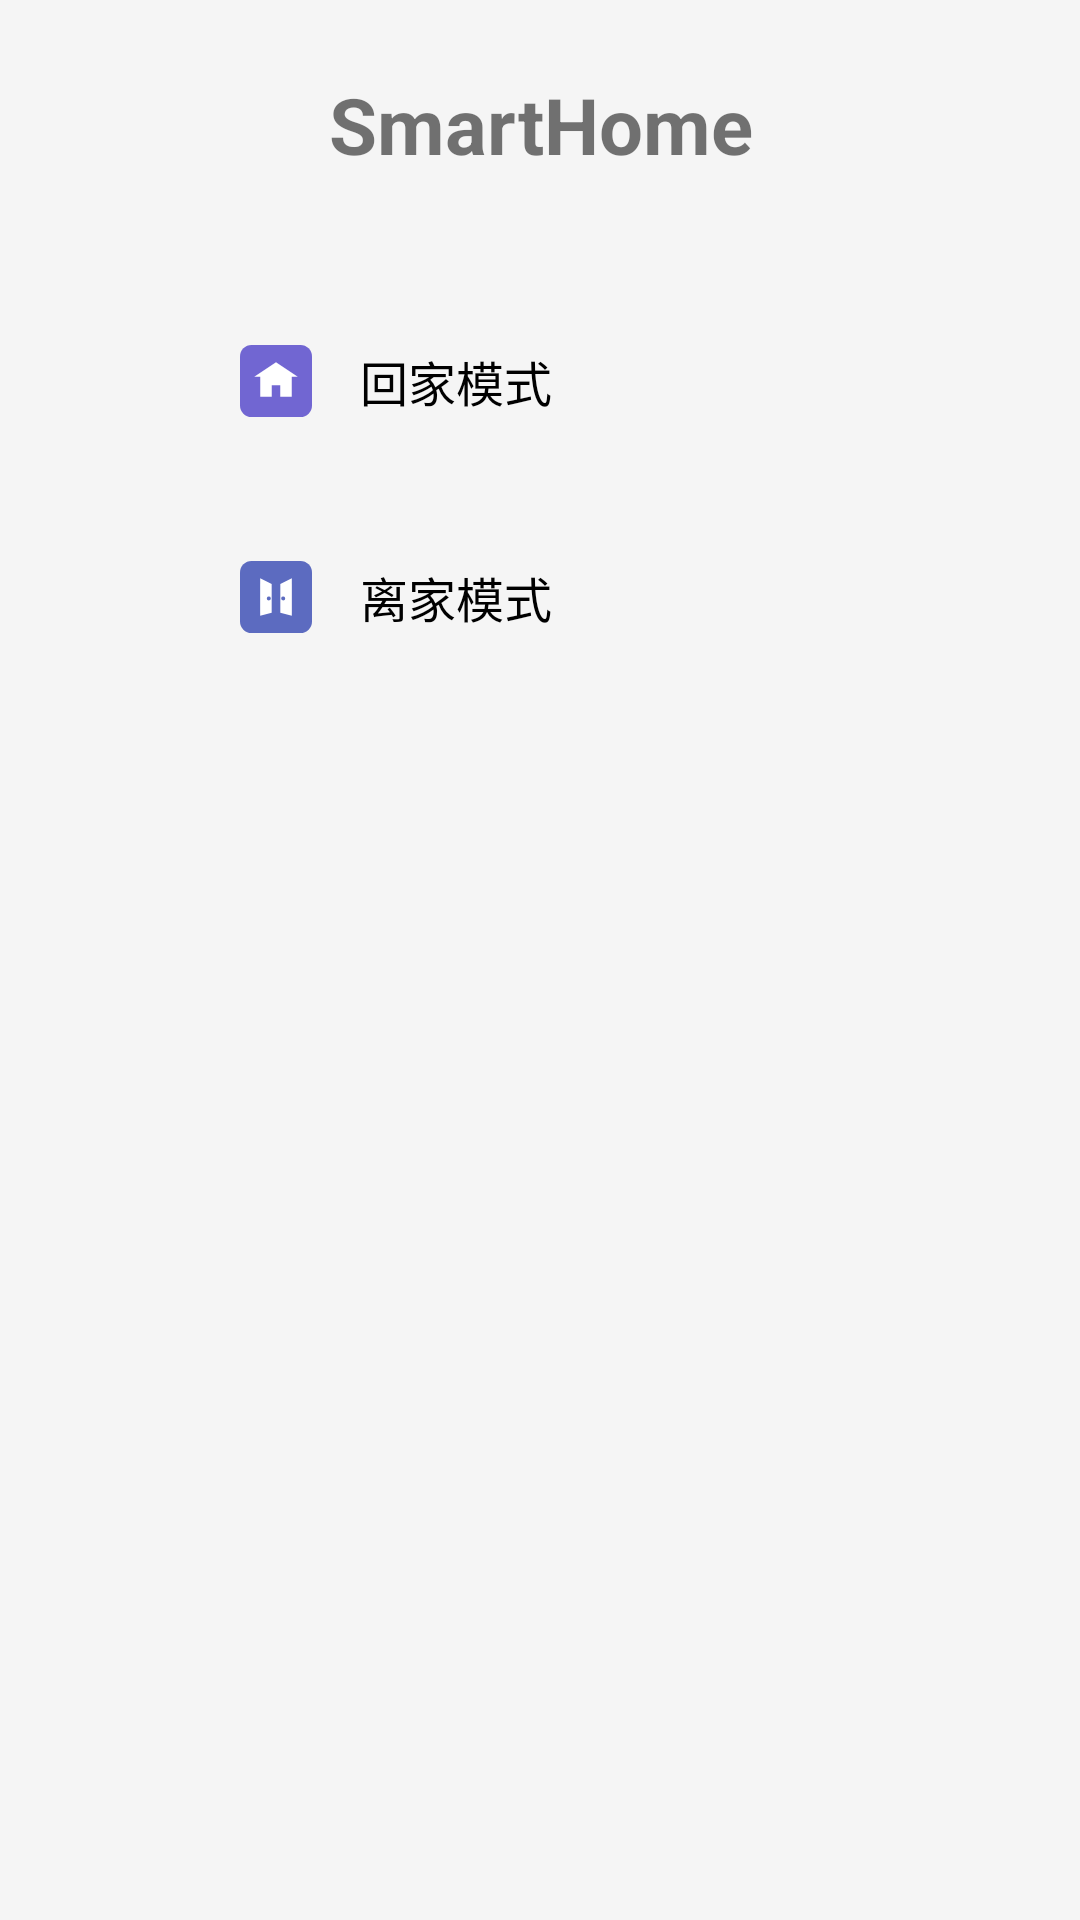

Where icons sit on this 1080×1920 app screen, as (x1, y1, x2, y2):
home mode: (240, 345, 312, 417)
leave mode: (240, 561, 312, 633)
